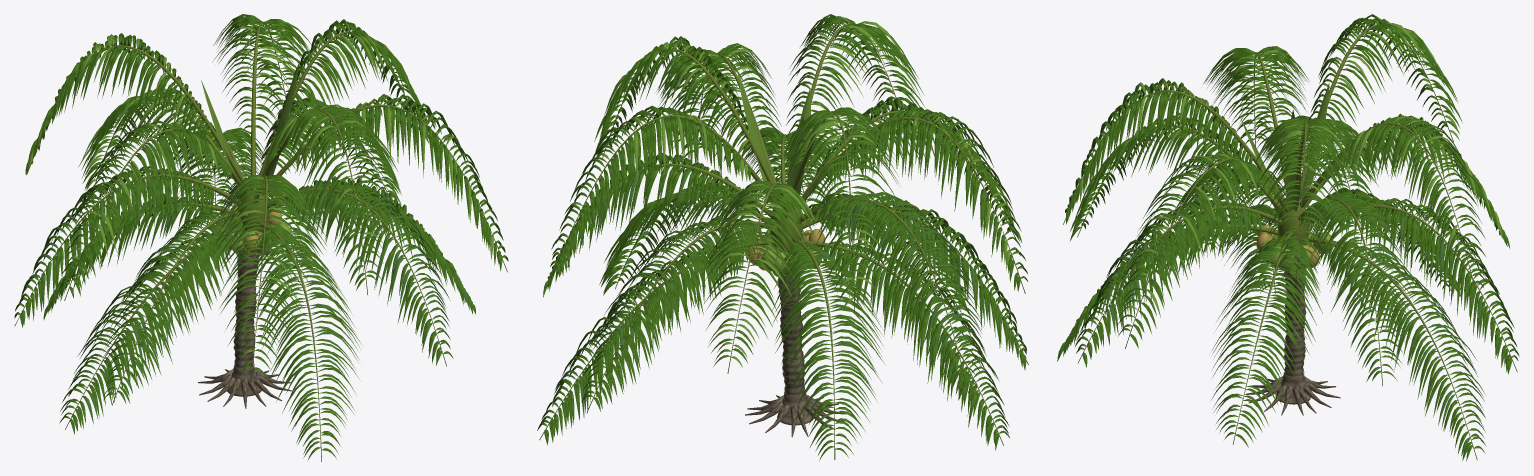
The model's file is KL_LS_Coconut_Juvenile_C.gltf.
The picture shows the model from 3 angles, left to right: view 1: azimuth 30°, elevation 25°; view 2: azimuth 150°, elevation 25°; view 3: azimuth 270°, elevation 25°; orthographic projection. The views are drawn at different scales.
Visible parts, largest first — view 1: TF3_KL_LS_Coconut_Juvenile_C; view 2: TF3_KL_LS_Coconut_Juvenile_C; view 3: TF3_KL_LS_Coconut_Juvenile_C.
Part boxes in pixels (x1,y1,x2,y2): TF3_KL_LS_Coconut_Juvenile_C: (14,14,508,461); TF3_KL_LS_Coconut_Juvenile_C: (537,14,1028,460); TF3_KL_LS_Coconut_Juvenile_C: (1057,14,1519,461).
Size of the model in its own units: 5.34 by 4.28 by 5.33.
Materials: 8 (2 with a texture image).
